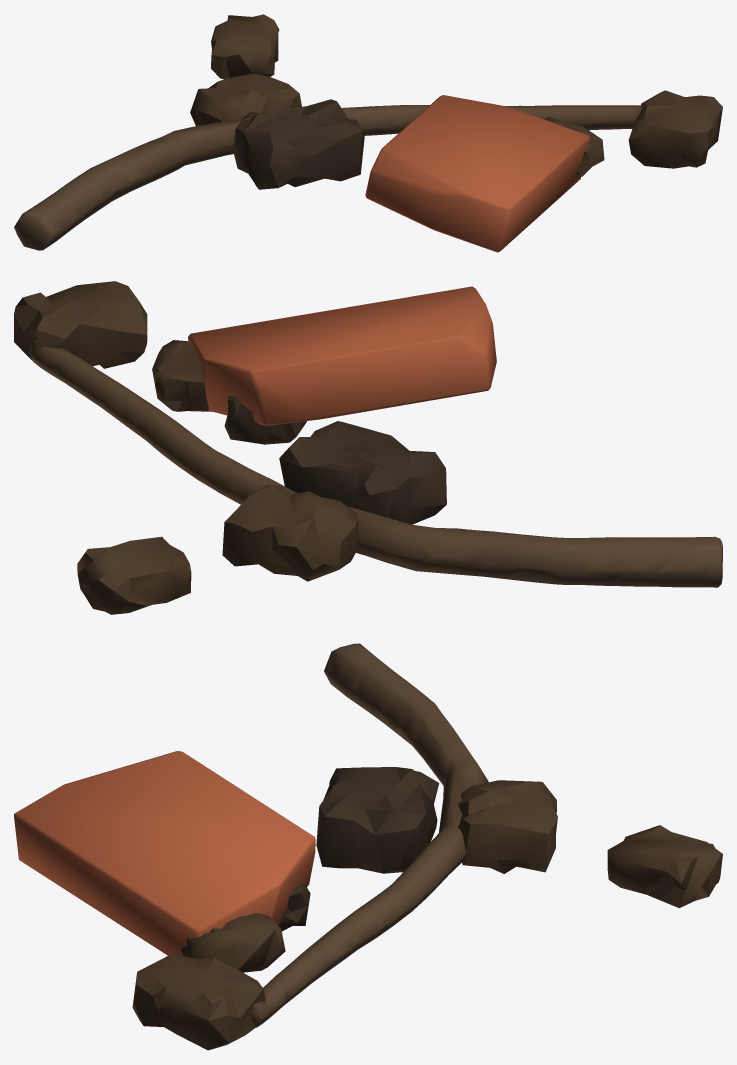
File: mire_gc_peat.glb
3 renders of one model, top to bottom at view 1: azimuth 30°, elevation 25°; view 2: azimuth 150°, elevation 25°; view 3: azimuth 270°, elevation 25°, orthographic. The views are drawn at different scales.
Visible parts, largest first — view 1: mire_gc_peat; view 2: mire_gc_peat; view 3: mire_gc_peat.
Part boxes in pixels (x1,y1,x2,y2): mire_gc_peat: [14, 14, 722, 252]; mire_gc_peat: [14, 281, 722, 614]; mire_gc_peat: [14, 643, 722, 1050].
Bounding box in the file's own units: 4.29 × 0.5716 × 3.41.
